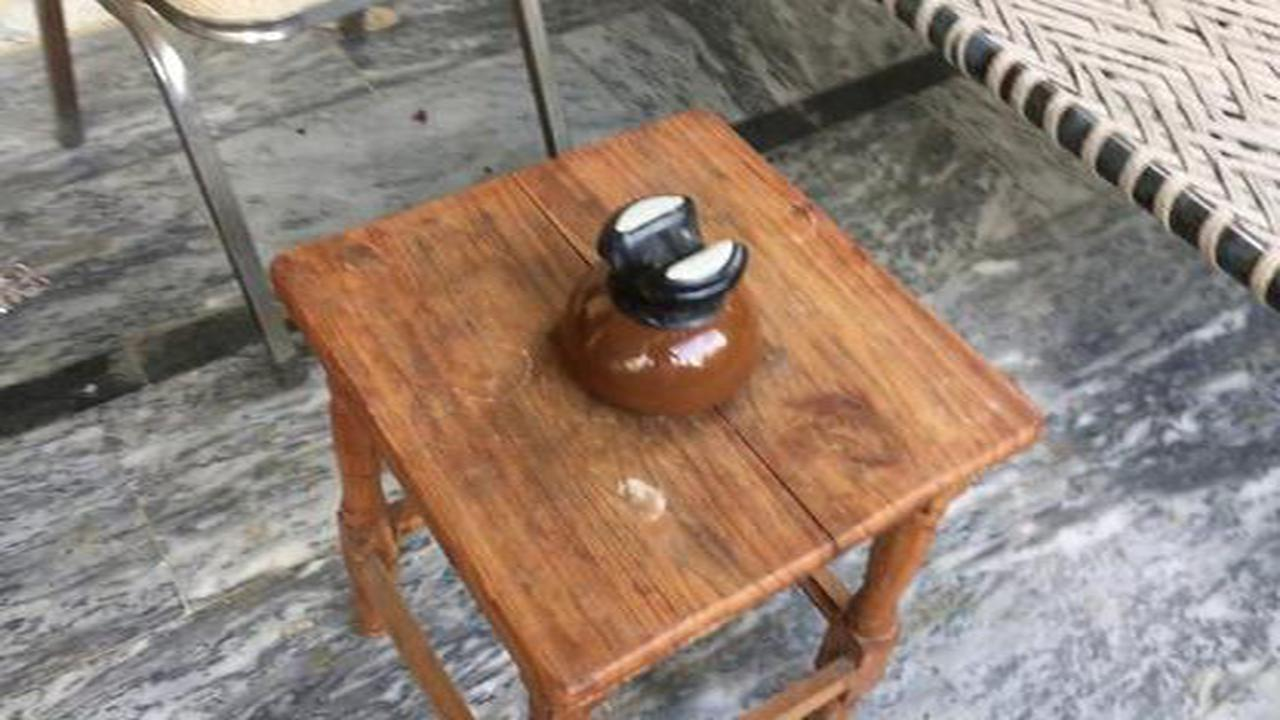insulator_pin: (527, 181, 788, 430)
